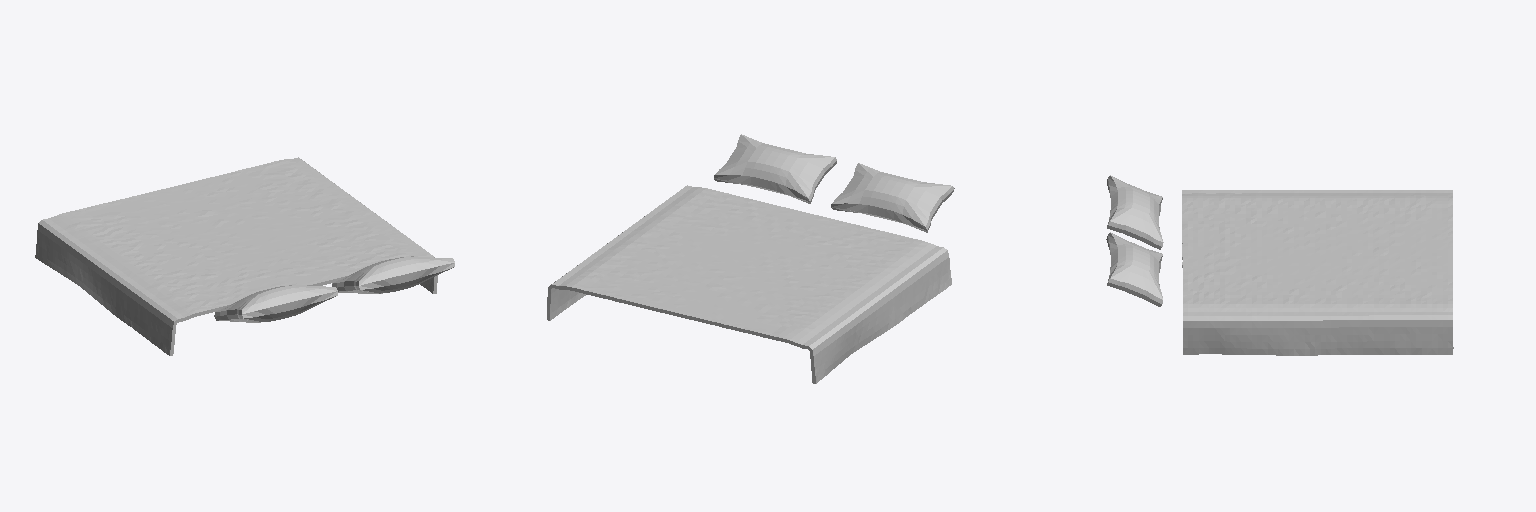
Rendered from sheet_pillow.obj.
3 views of the same model, side by side, from view 1: azimuth 30°, elevation 25°; view 2: azimuth 150°, elevation 25°; view 3: azimuth 270°, elevation 25° (orthographic).
Visible parts, largest first — view 1: Plane.018_Plane.005; view 2: Plane.018_Plane.005; view 3: Plane.018_Plane.005.
Boxes of the visible parts, x1=… form: Plane.018_Plane.005: x1=35, y1=157, x2=454, y2=355; Plane.018_Plane.005: x1=547, y1=134, x2=954, y2=383; Plane.018_Plane.005: x1=1106, y1=175, x2=1453, y2=355.
Bounding box in the file's own units: 1.61 × 0.3903 × 1.79.